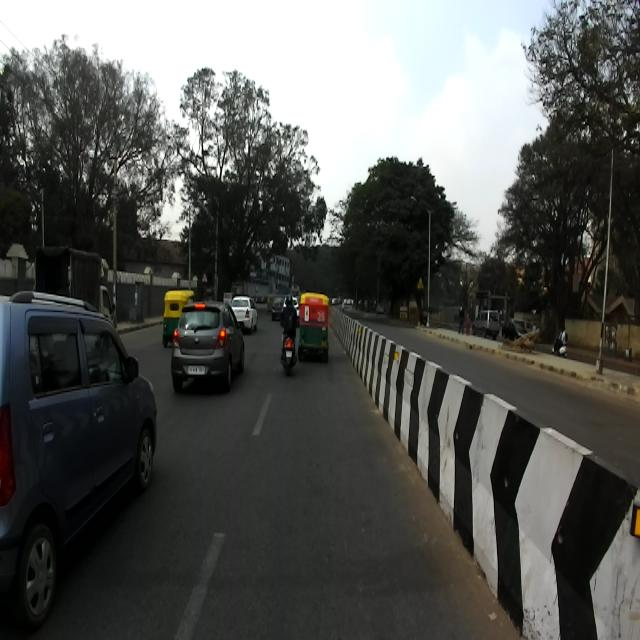auto ahead at: (296, 294, 332, 365)
car ahead at: (0, 283, 162, 614), (170, 294, 248, 404)
motorcycle ahead at: (277, 332, 301, 382)
